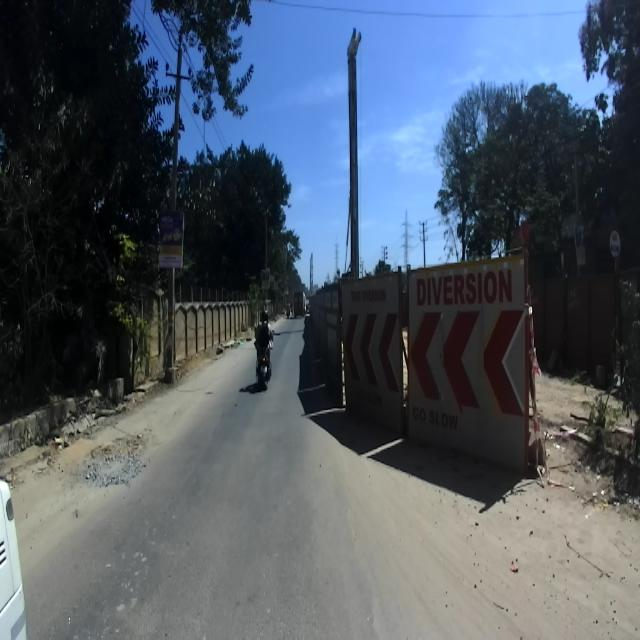barrier ahead at: (406, 267, 530, 471)
